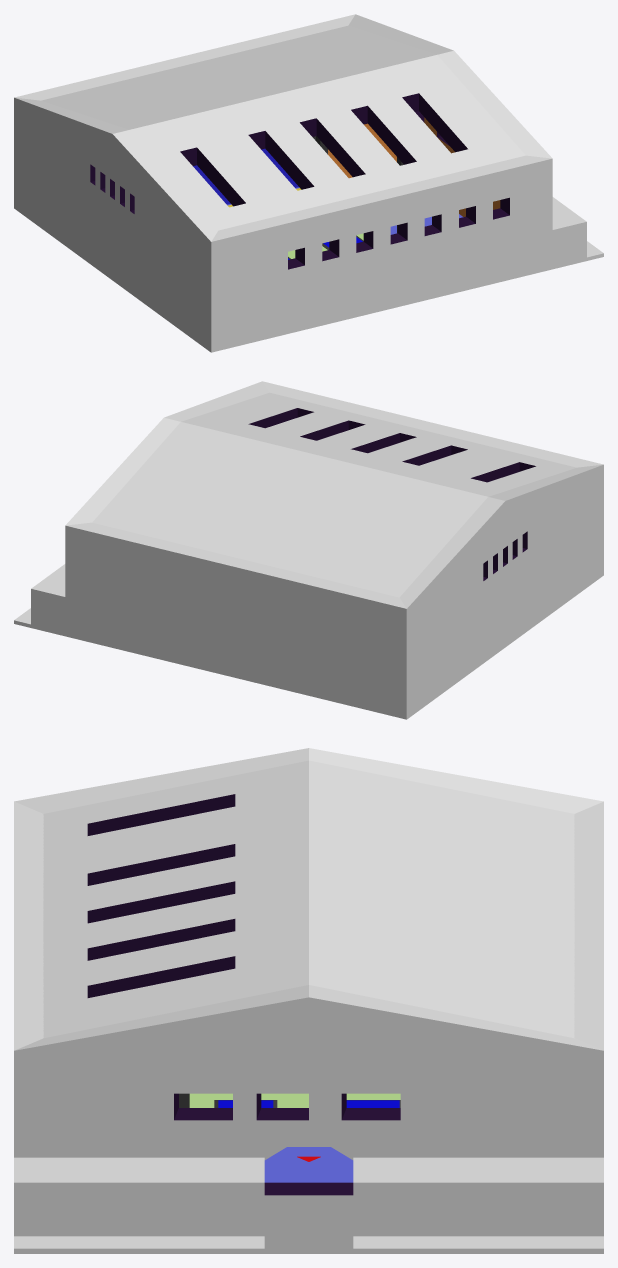
File: Fabrica.fbx
The picture shows the model from 3 angles, top to bottom: view 1: azimuth 30°, elevation 25°; view 2: azimuth 150°, elevation 25°; view 3: azimuth 270°, elevation 25°; orthographic projection. The views are drawn at different scales.
Parts seen in each view (by area): view 1: Cubo; view 2: Cubo; view 3: Cubo.
Part boxes in pixels (<box>): Cubo: <box>14,14,603,352</box>; Cubo: <box>14,381,603,719</box>; Cubo: <box>14,748,603,1253</box>.
Size of the model in its own units: 2300 by 820 by 2000.
